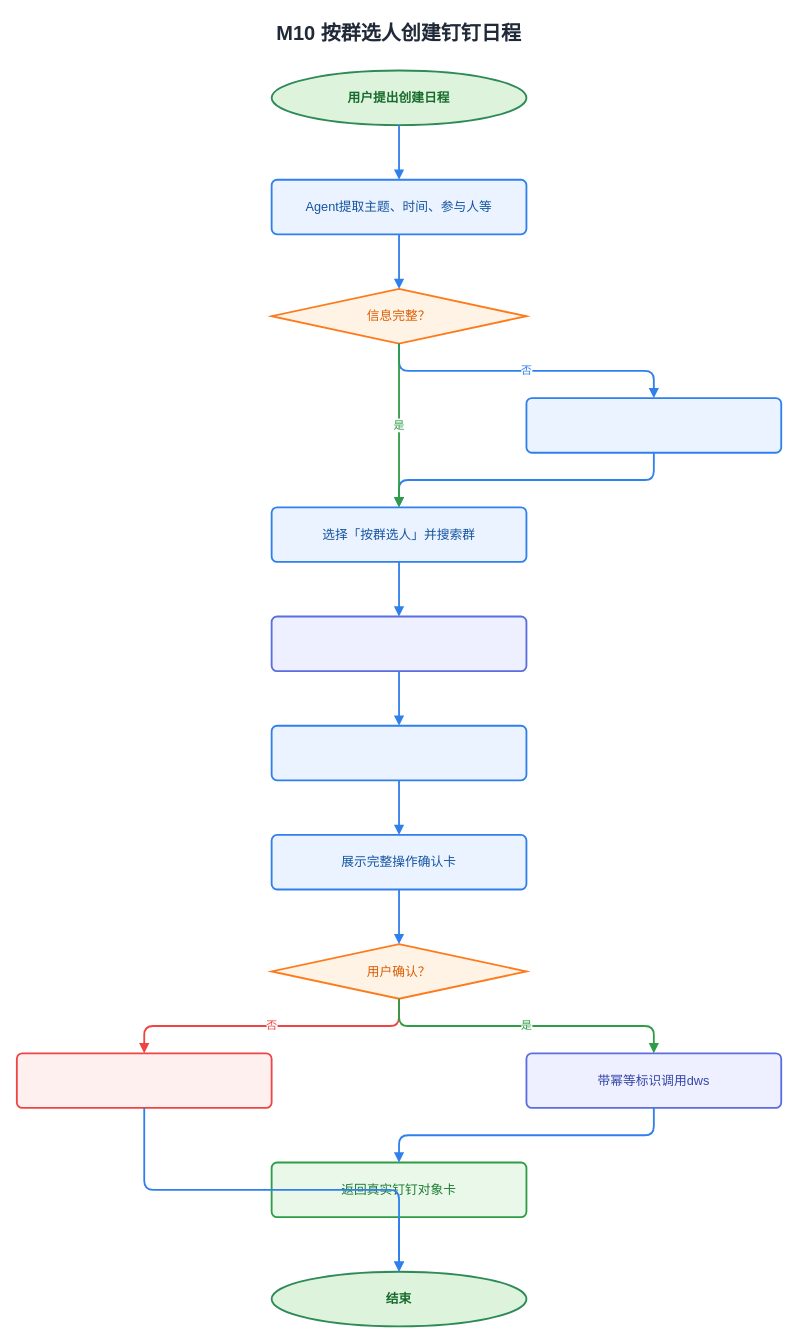
This 797x1342 diagram has some shape labels left out. The shapes that lost their labels are listed below. From the top down, each one's centre as x and y in pixels, then its label:
[653,425]: 复用M5澄清卡
[398,643]: 加载群成员 默认选中有效成员
[398,752]: 用户搜索、取消或补充参与人
[143,1080]: 取消且不调用dws
